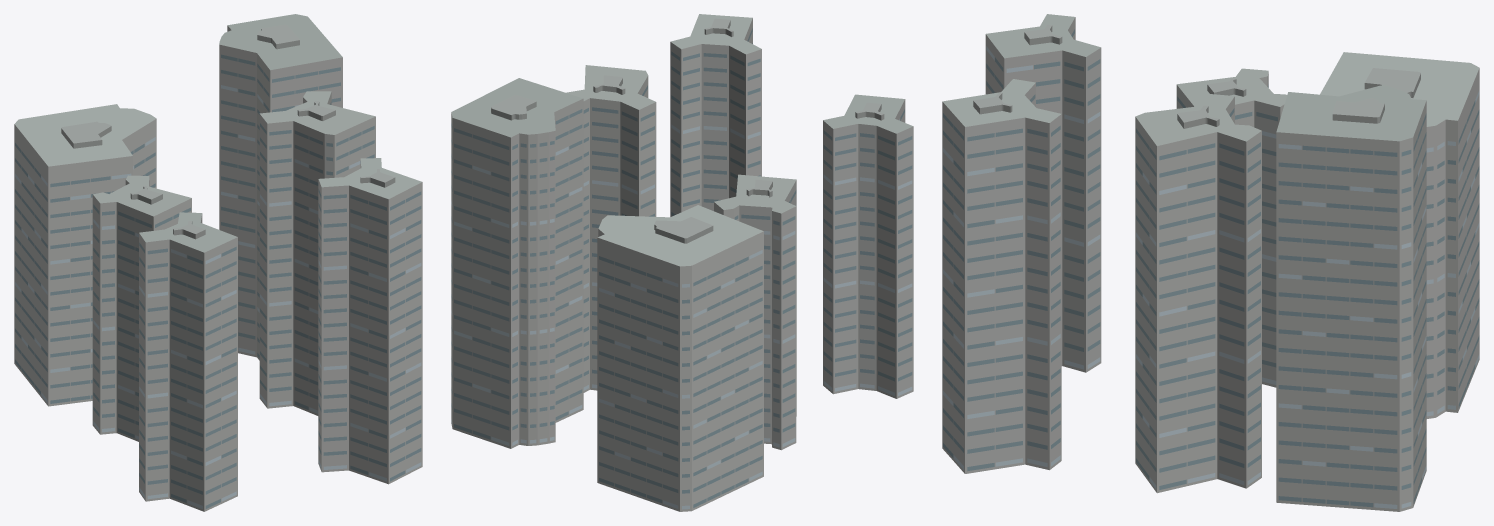
Rendered from apt-a15805111.glb.
3 renders of one model, left to right at view 1: azimuth 30°, elevation 25°; view 2: azimuth 150°, elevation 25°; view 3: azimuth 270°, elevation 25°, orthographic. The views are drawn at different scales.
Parts seen in each view (by area): view 1: apt-a15805111; view 2: apt-a15805111; view 3: apt-a15805111.
Boxes of the visible parts, x1,y1,x2,y2 form: apt-a15805111: (14,14,422,511); apt-a15805111: (451,14,913,511); apt-a15805111: (942,14,1479,511).
Size of the model in its own units: 149 by 144 by 186.
